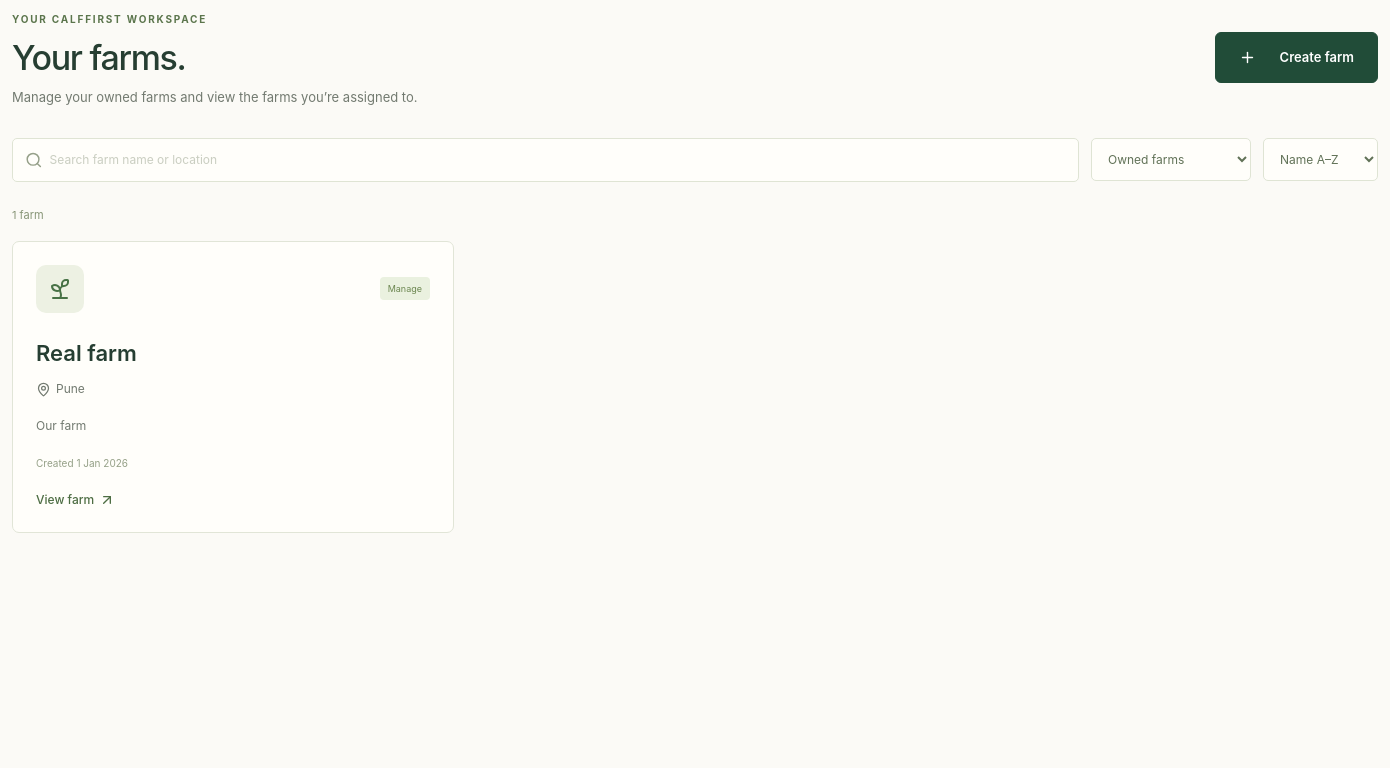
live management pages with mocked Supabase operations › searches farms and shows an empty result
Expected: the link "Real farm" is shown, [36,340,137,366]
Step 1. Type "not-present" into the field named "Search farms" → (558, 160), box [50,151,1066,169]
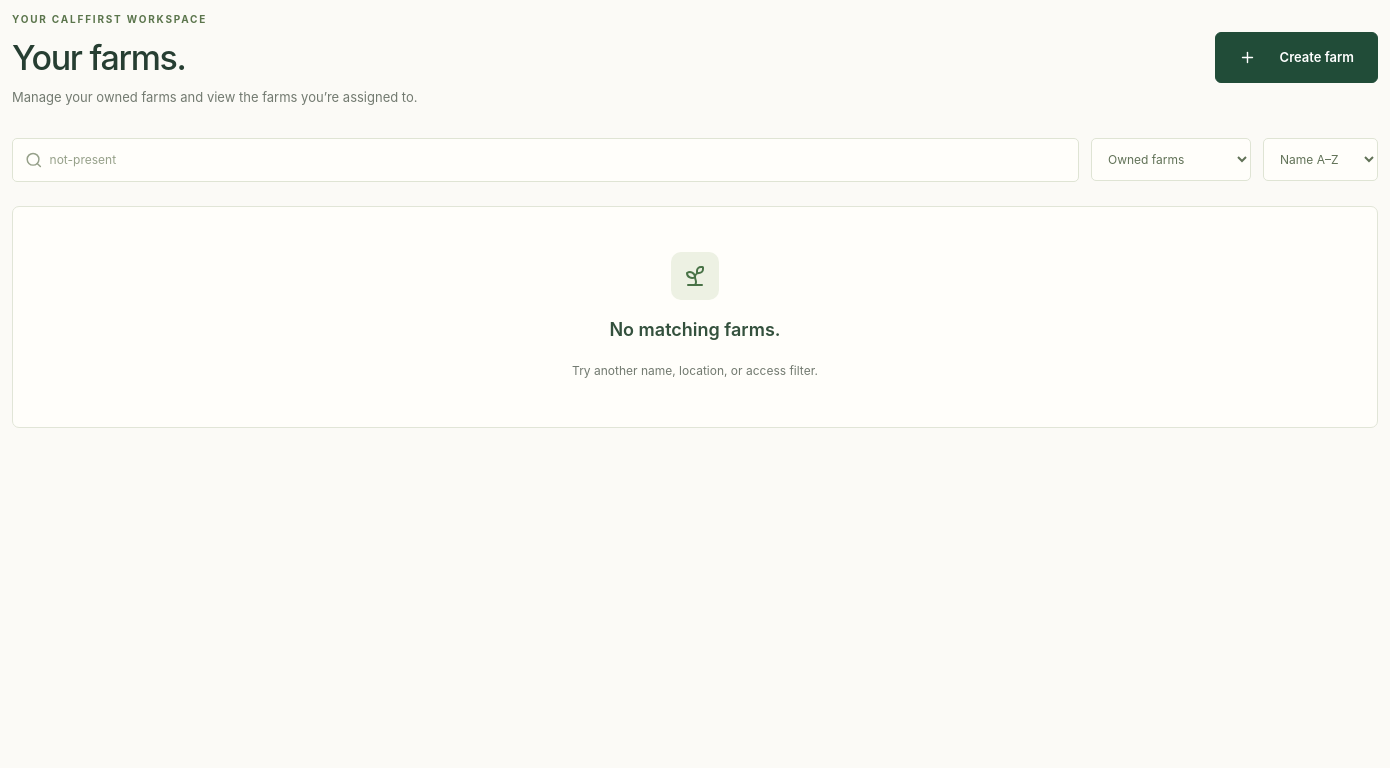
Now the heading "No matching farms." is shown, box [610,318,781,342]
